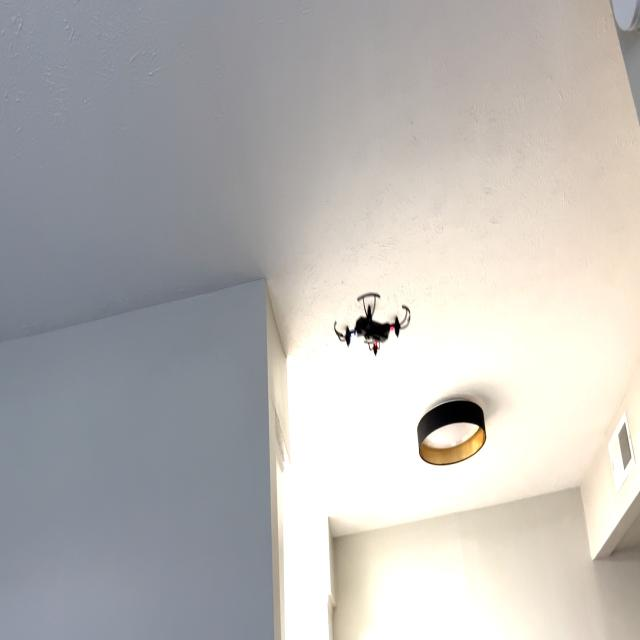drone: (327, 274, 416, 374)
